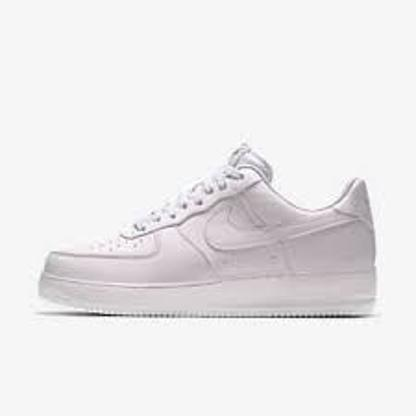not trash: (41, 136, 383, 324)
